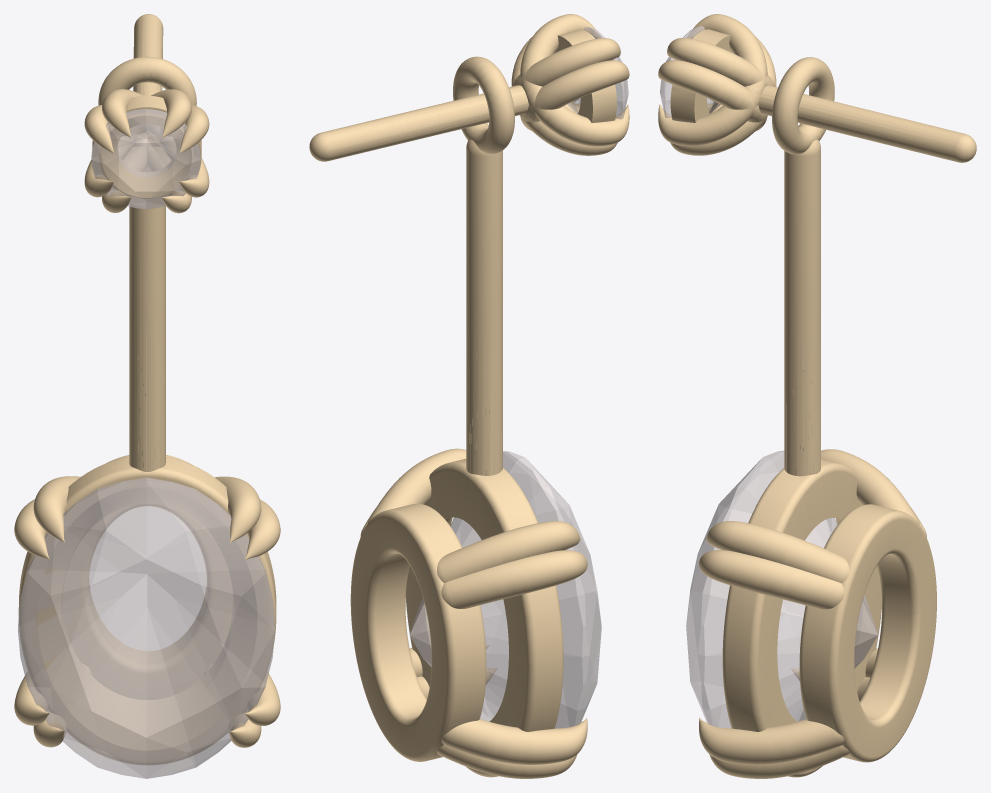
Rendered from tall_diamond_earrings.glb.
The picture shows the model from 3 angles, left to right: view 1: azimuth 30°, elevation 25°; view 2: azimuth 150°, elevation 25°; view 3: azimuth 270°, elevation 25°; orthographic projection.
Visible parts, largest first — view 1: Object_4_WhiteMetal_0, Diamond_Oval_Material_1_0, Object_3_WhiteMetal_0, Diamond_Round_Material_1_0; view 2: Object_4_WhiteMetal_0, Object_3_WhiteMetal_0, Diamond_Oval_Material_1_0, Diamond_Round_Material_1_0; view 3: Object_4_WhiteMetal_0, Object_3_WhiteMetal_0, Diamond_Oval_Material_1_0, Diamond_Round_Material_1_0.
Part boxes in pixels (x1,y1,x2,y2): Object_4_WhiteMetal_0: [14, 56, 280, 765]; Diamond_Oval_Material_1_0: [18, 477, 275, 778]; Object_3_WhiteMetal_0: [84, 14, 209, 213]; Diamond_Round_Material_1_0: [91, 109, 200, 209]; Object_4_WhiteMetal_0: [350, 56, 587, 778]; Object_3_WhiteMetal_0: [309, 14, 629, 161]; Diamond_Oval_Material_1_0: [409, 451, 601, 728]; Diamond_Round_Material_1_0: [567, 26, 628, 119]; Object_4_WhiteMetal_0: [699, 57, 936, 778]; Object_3_WhiteMetal_0: [658, 14, 976, 162]; Diamond_Oval_Material_1_0: [686, 450, 877, 728]; Diamond_Round_Material_1_0: [660, 26, 720, 117].
Bounding box in the file's own units: 0.1582 × 0.4582 × 0.1849.
